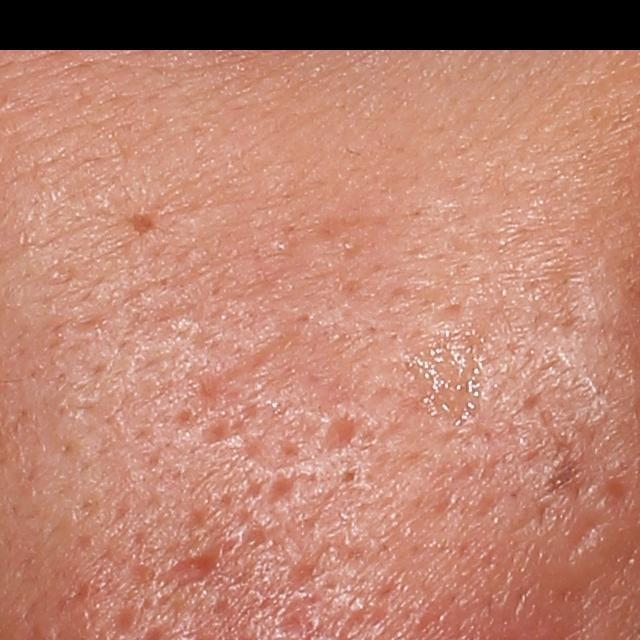atrophic_scar: (184, 314, 319, 470), (158, 546, 225, 588), (314, 410, 364, 456), (261, 472, 296, 517), (605, 472, 635, 512)
